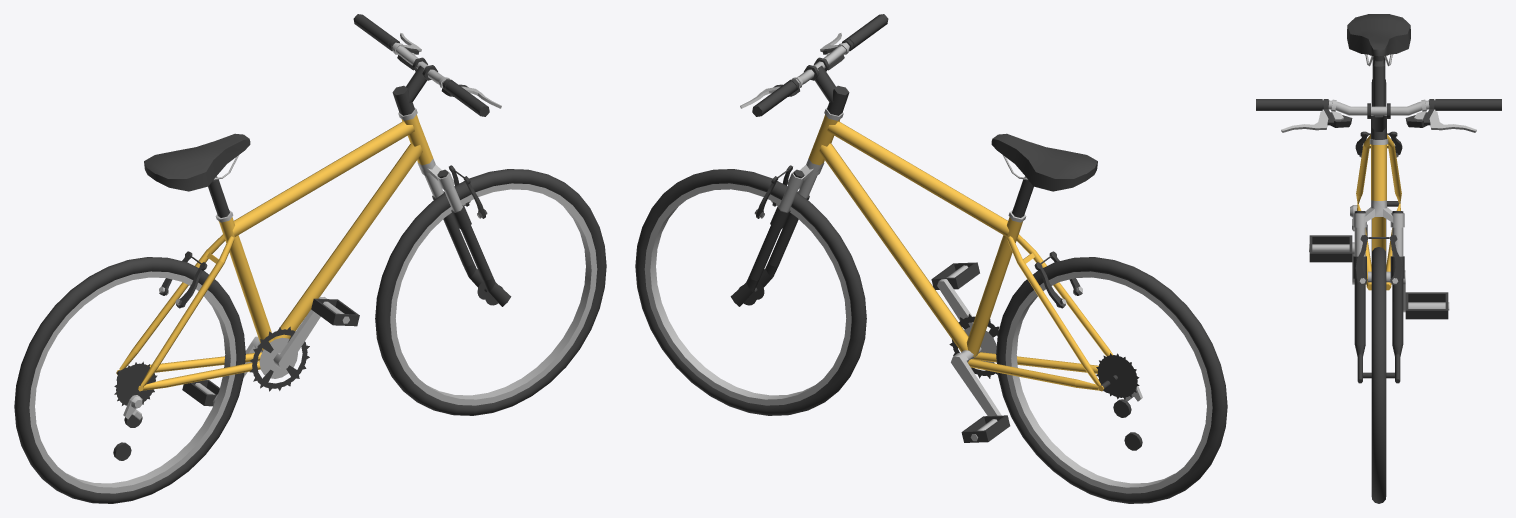
The model's file is Yellow_Mountain_Bike.dae.
3 views of the same model, side by side, from view 1: azimuth 30°, elevation 25°; view 2: azimuth 150°, elevation 25°; view 3: azimuth 270°, elevation 25° (orthographic). The views are drawn at different scales.
Visible parts, largest first — view 1: wheel (×6), group_24, group_0, group_25, group_20 (×2), グループ_1 (×2), group_23, group_21 (×2), group_6, pedal, group_35; view 2: wheel (×6), group_24, group_0, group_25, group_21 (×2), group_23, グループ_1 (×2), group_20 (×2), pedal, group_7, group_35; view 3: wheel, group_0, group_26 (×4), グループ_1 (×2), group_35 (×4), group_22, group_29 (×2), SketchUp, group_9 (×2), pedal (×2), group_20, group_21 (+2 smaller).
Part boxes in pixels (x1,y1,x2,y2): wheel (×6): (14, 169, 606, 503); group_24: (274, 143, 422, 339); group_0: (144, 133, 250, 191); group_25: (232, 121, 414, 236); group_20 (×2): (141, 236, 260, 390); グループ_1 (×2): (443, 212, 511, 306); group_23: (218, 217, 274, 350); group_21 (×2): (119, 234, 261, 372); group_6: (250, 326, 309, 391); pedal: (273, 297, 326, 368); group_35: (311, 298, 359, 326); wheel (×6): (635, 169, 1227, 503); group_24: (819, 143, 968, 351); group_0: (991, 133, 1097, 191); group_25: (827, 121, 1008, 236); group_21 (×2): (968, 236, 1100, 390); group_23: (966, 217, 1022, 356); グループ_1 (×2): (730, 212, 798, 306); group_20 (×2): (972, 234, 1112, 373); pedal: (951, 353, 1001, 415); group_7: (1096, 353, 1139, 399); group_35: (961, 415, 1010, 442); wheel: (1371, 247, 1386, 503); group_0: (1347, 14, 1410, 56); group_26 (×4): (1256, 99, 1501, 115); グループ_1 (×2): (1354, 278, 1403, 383); group_35 (×4): (1309, 235, 1448, 319); group_22: (1371, 144, 1386, 200); group_29 (×2): (1281, 110, 1476, 132); SketchUp: (1372, 56, 1385, 106); group_9 (×2): (1355, 235, 1402, 285); pedal (×2): (1309, 244, 1449, 310); group_20: (1356, 134, 1370, 203); group_21: (1387, 134, 1401, 203).
Size of the model in its own units: 66.35 by 24.55 by 39.69.
